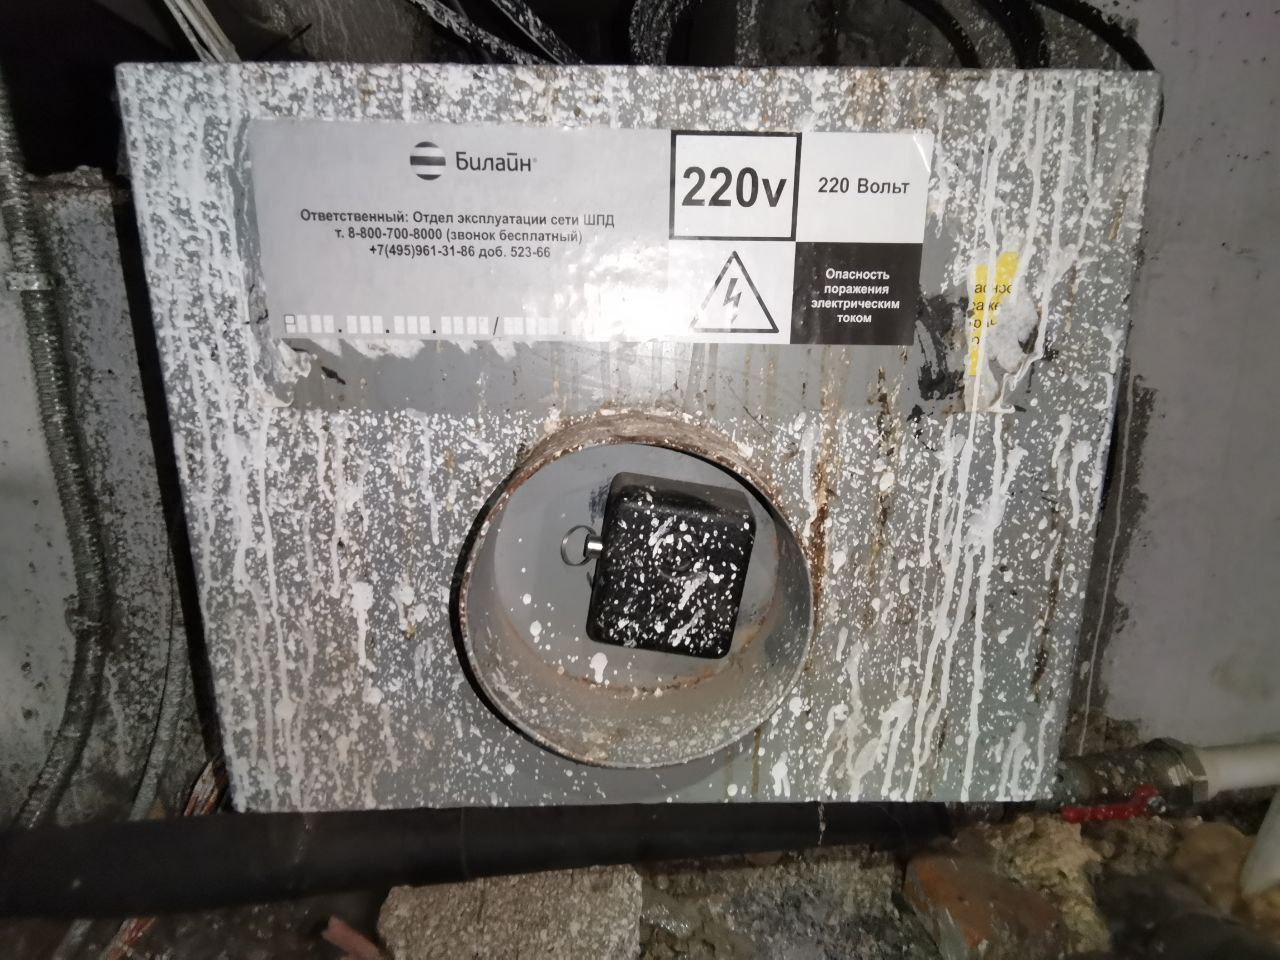shta-3: (109, 57, 1168, 814)
